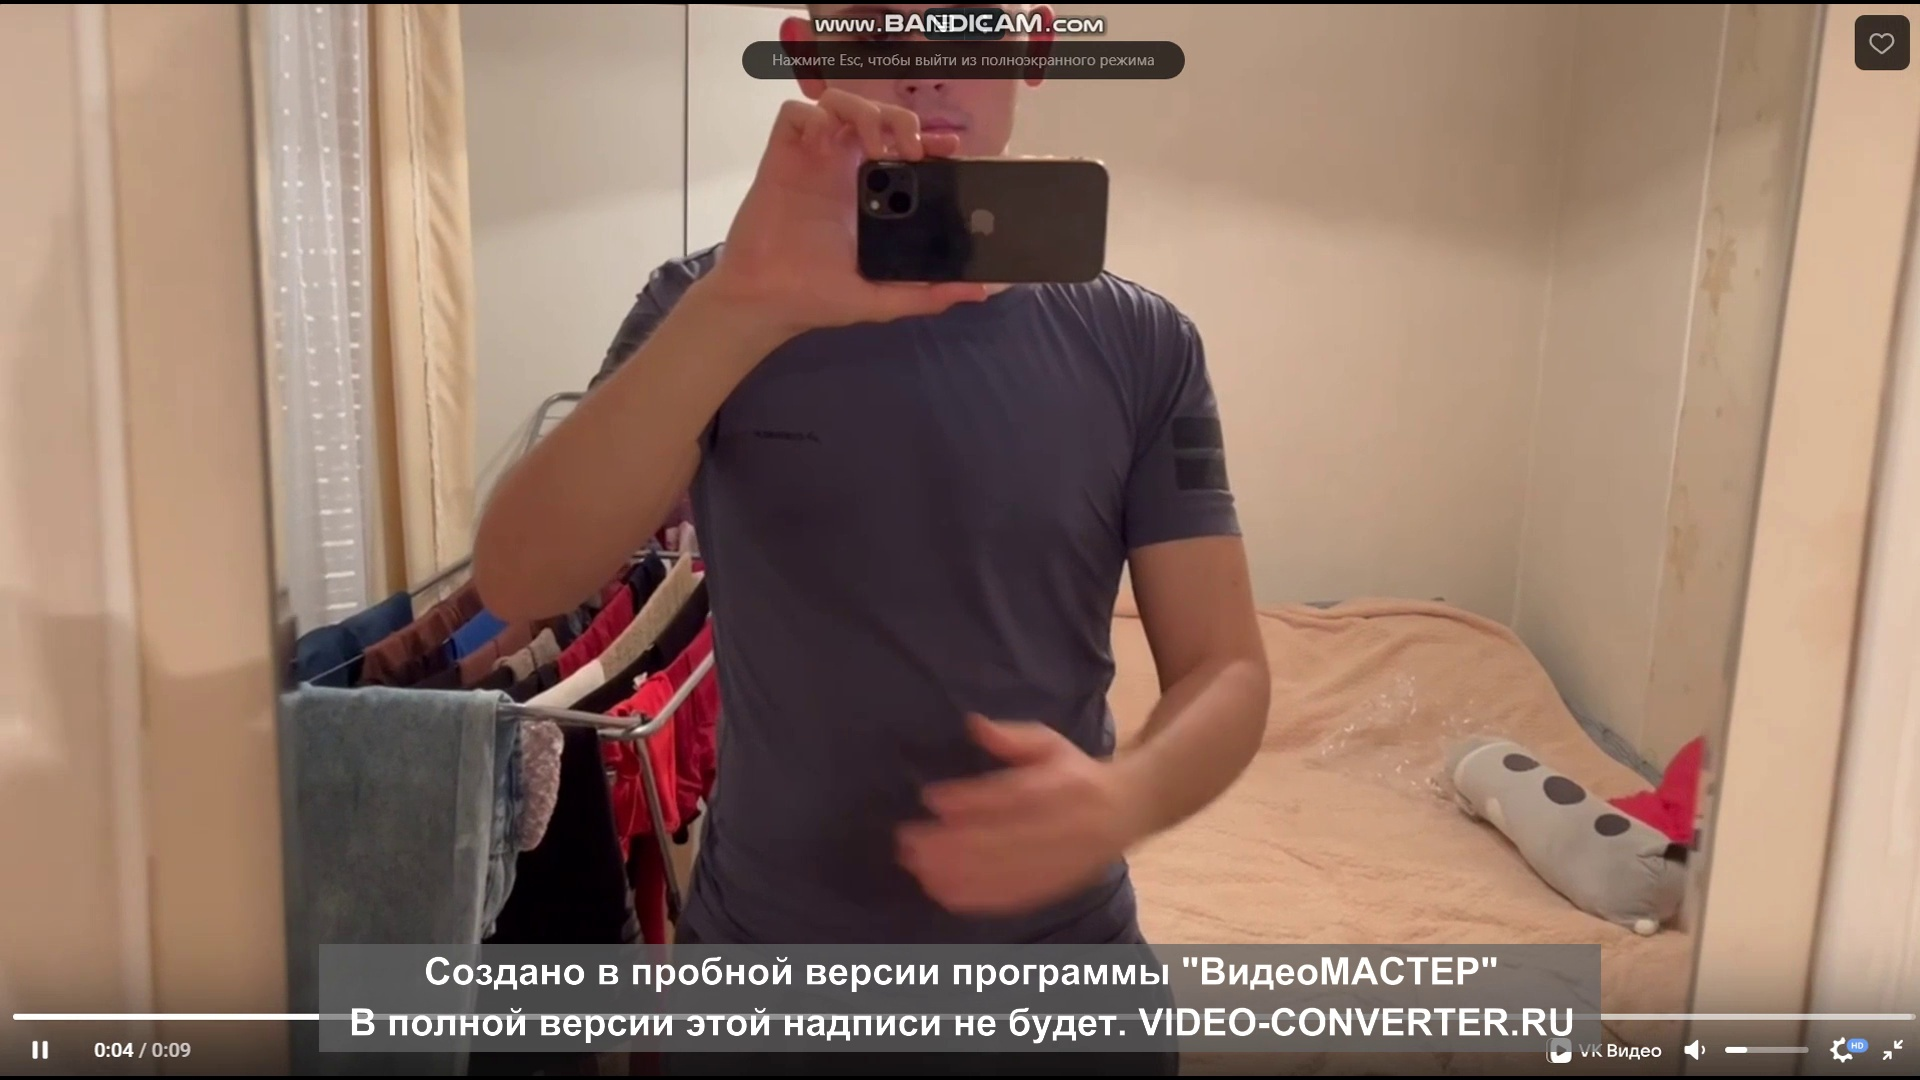Кисть: (897, 711, 1122, 919)
